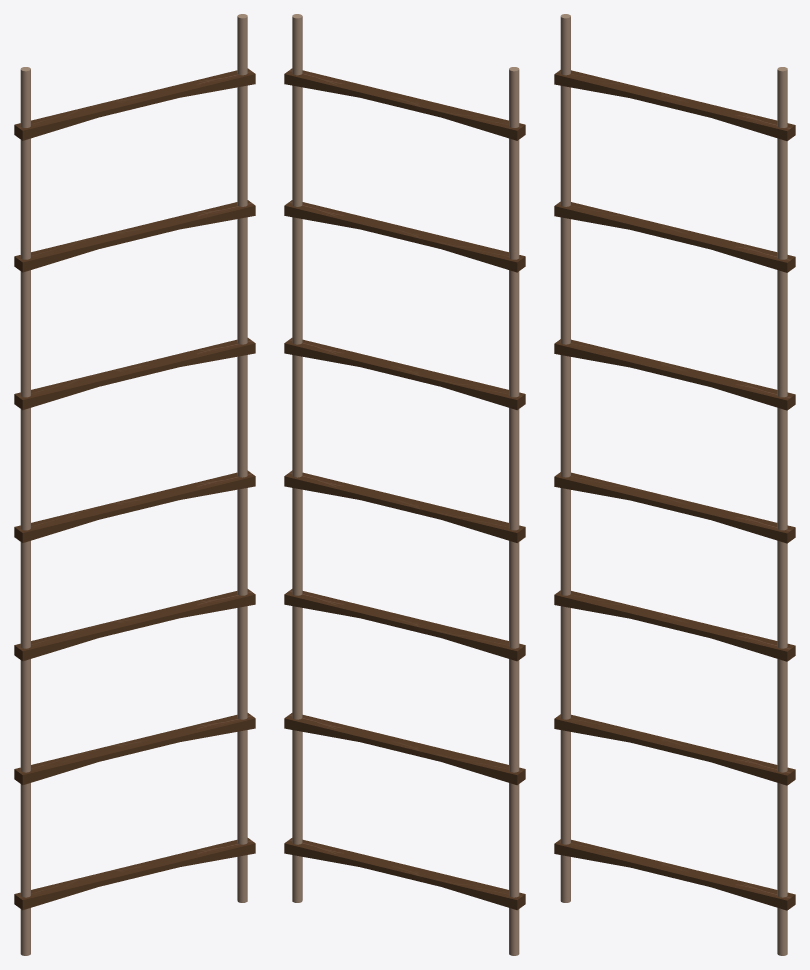
File: Rope_ladder.fbx
3 views of the same model, side by side, from view 1: azimuth 30°, elevation 25°; view 2: azimuth 150°, elevation 25°; view 3: azimuth 330°, elevation 25° (orthographic).
Visible parts, largest first — view 1: Rope_Ladder_Step003; view 2: Rope_Ladder_Step003; view 3: Rope_Ladder_Step003.
Boxes of the visible parts, x1,y1,x2,y2 form: Rope_Ladder_Step003: (14, 14, 255, 955); Rope_Ladder_Step003: (284, 14, 525, 955); Rope_Ladder_Step003: (554, 14, 795, 955).
Size of the model in its own units: 48.01 by 174 by 3.
